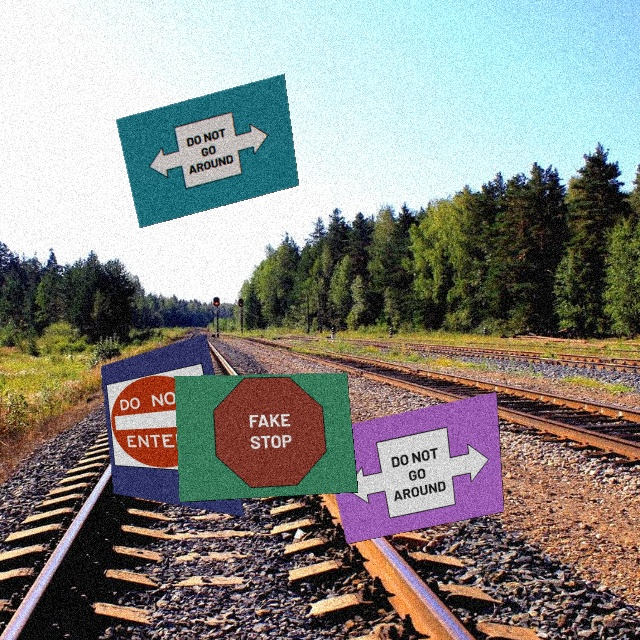DO_NOT_ENTER: (104, 361, 224, 474)
DO_NOT_GO_AROUND: (338, 414, 498, 533), (142, 103, 274, 199)
FAKE_STOP: (212, 376, 330, 490)
